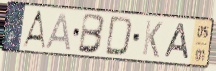A: (44, 12, 73, 52), (20, 9, 47, 51), (163, 22, 191, 61)
B: (76, 12, 107, 56)
D: (103, 15, 134, 58)
K: (140, 18, 165, 60)
